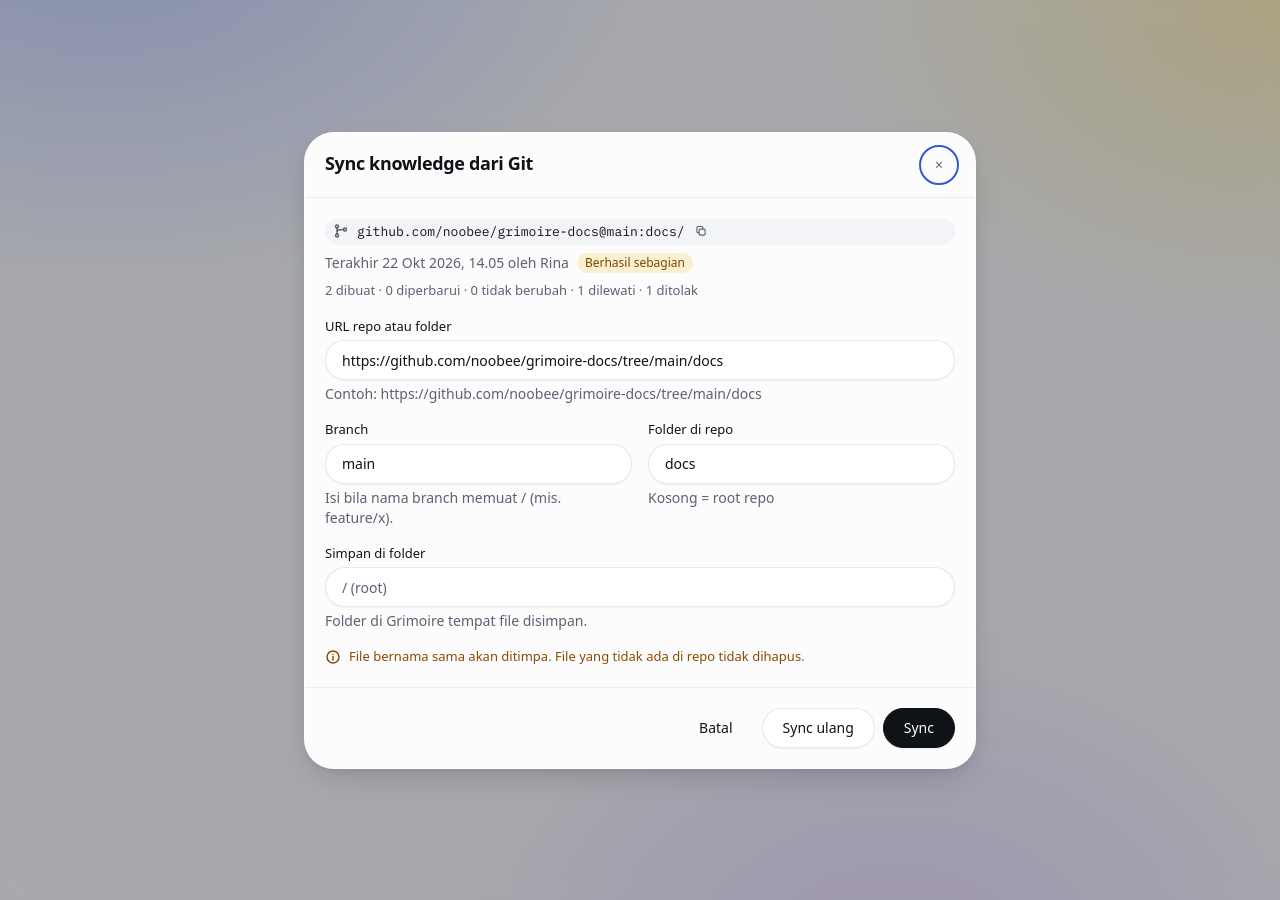
it: GitSyncDialog › SYNC_IN_PROGRESS shows message and retry
Expected: the field showing "grimoire-docs" is shown, [325, 340, 955, 380]
Click the button "Sync" at (919, 728), box [883, 708, 955, 748]
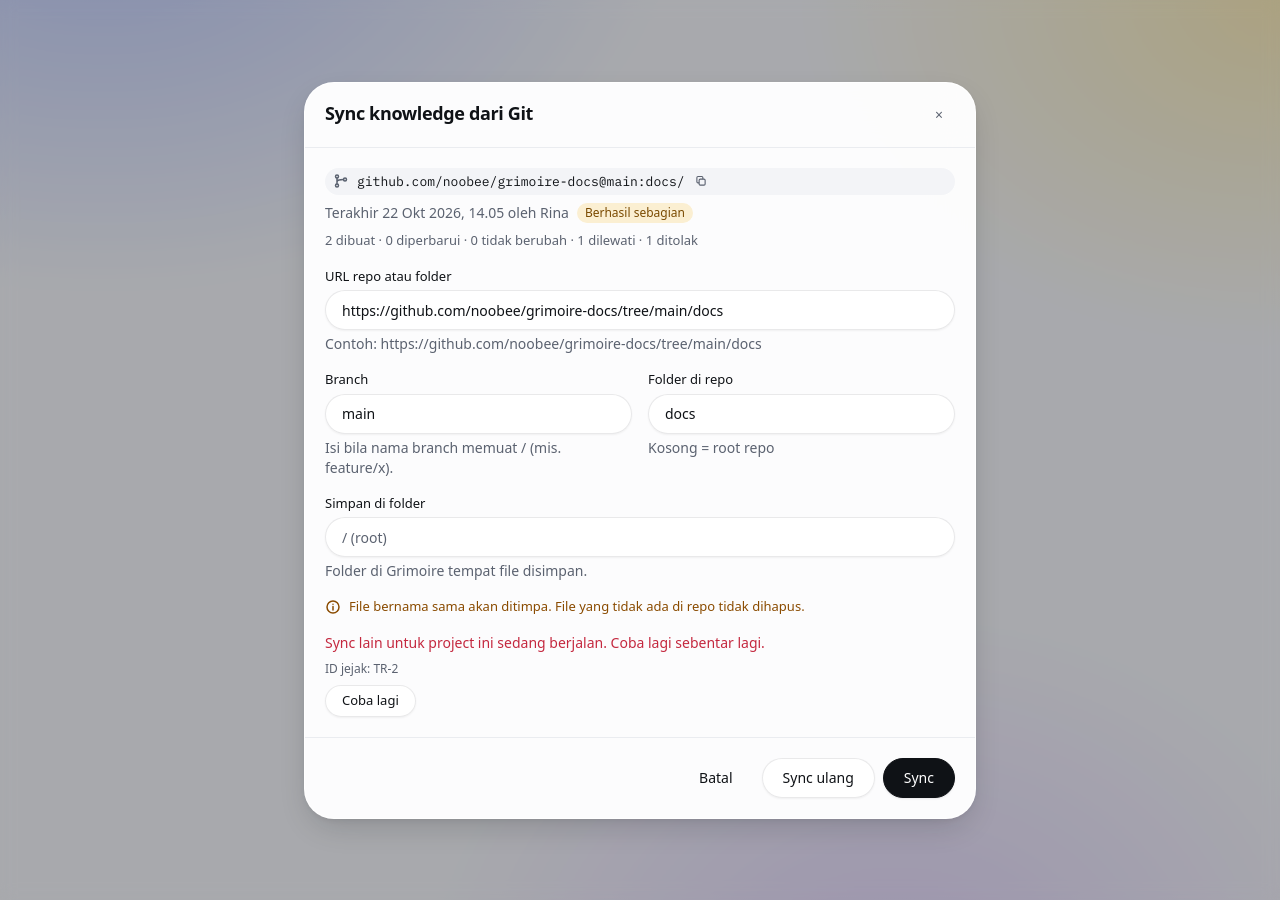
Now the text "sedang berjalan" is shown, box [325, 632, 765, 652]
Now the button "Coba lagi" is shown, box [325, 684, 416, 716]
